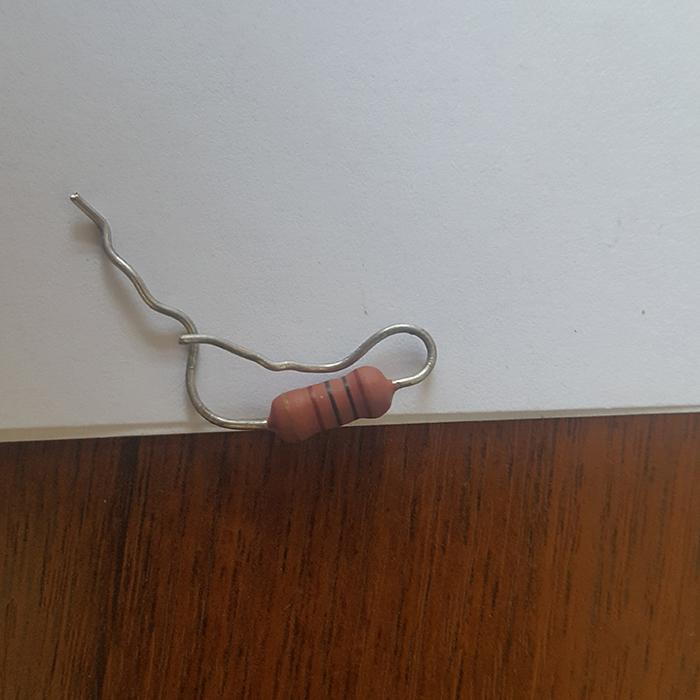resistor: (266, 364, 398, 442)
